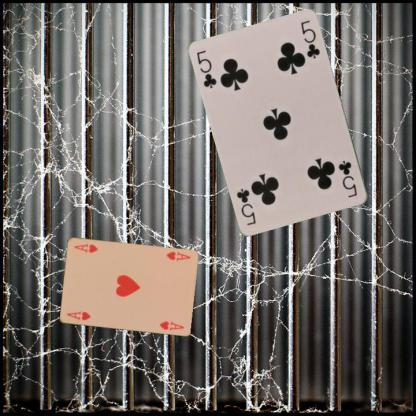5c: (194, 48, 219, 90), (336, 158, 358, 199)
Ah: (64, 308, 91, 322), (164, 249, 191, 262)
